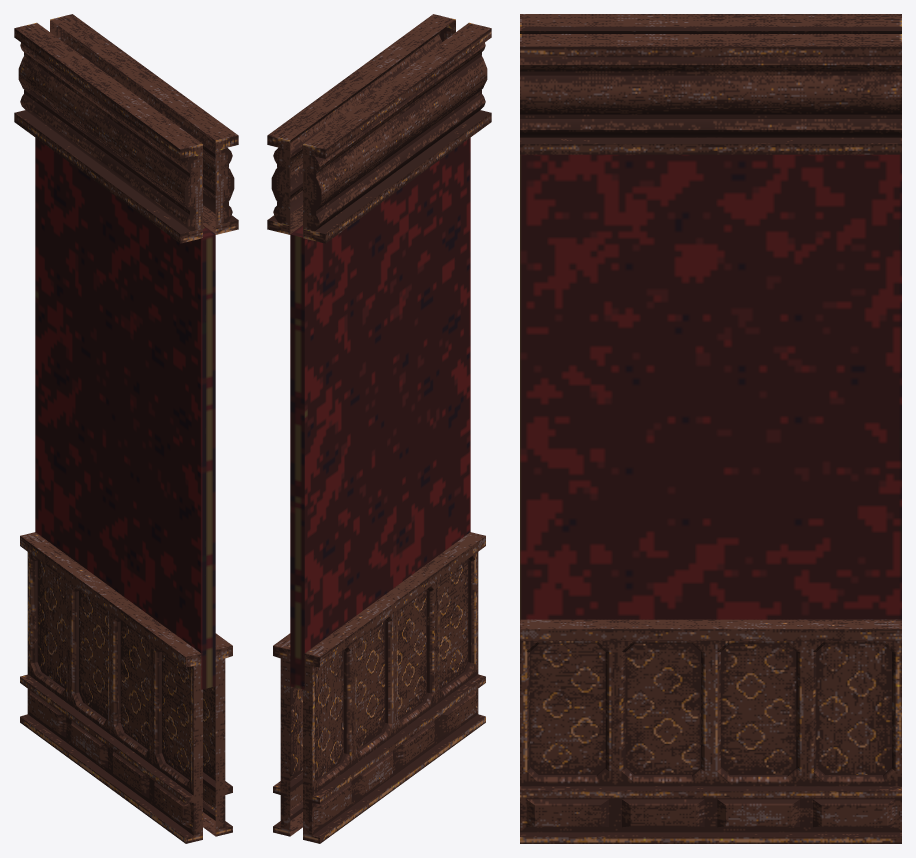
File: wall_2m_combined.fbx
3 renders of one model, left to right at view 1: azimuth 30°, elevation 25°; view 2: azimuth 150°, elevation 25°; view 3: azimuth 270°, elevation 25°, orthographic. The views are drawn at different scales.
Parts seen in each view (by area): view 1: wall_2m_combined; view 2: wall_2m_combined; view 3: wall_2m_combined.
Part boxes in pixels (<box>): wall_2m_combined: <box>14,14,238,843</box>; wall_2m_combined: <box>267,14,491,843</box>; wall_2m_combined: <box>520,14,901,843</box>.
Bounding box in the file's own units: 40.44 × 463 × 200.
